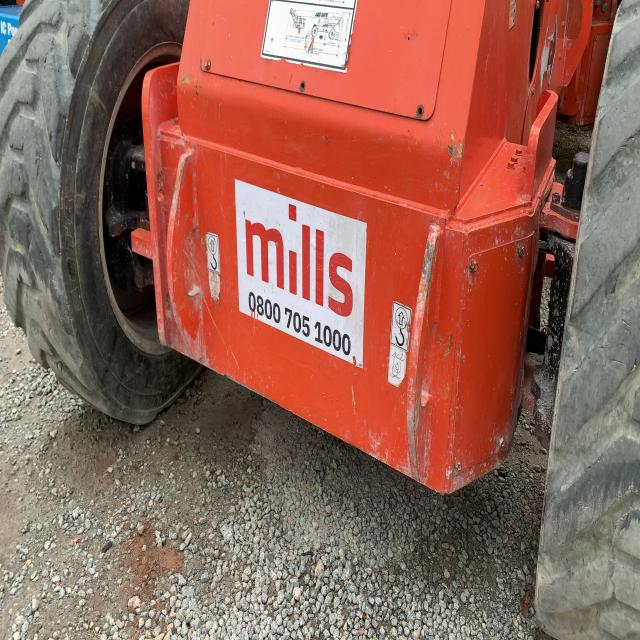Adesivos: (233, 175, 369, 371)
